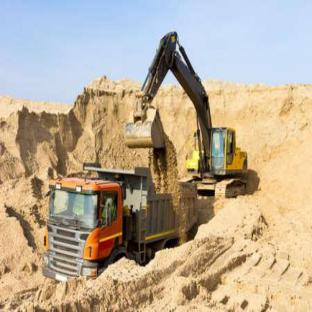ExcavationMachinery: (102, 27, 279, 183)
Vehicle: (41, 173, 216, 281)
